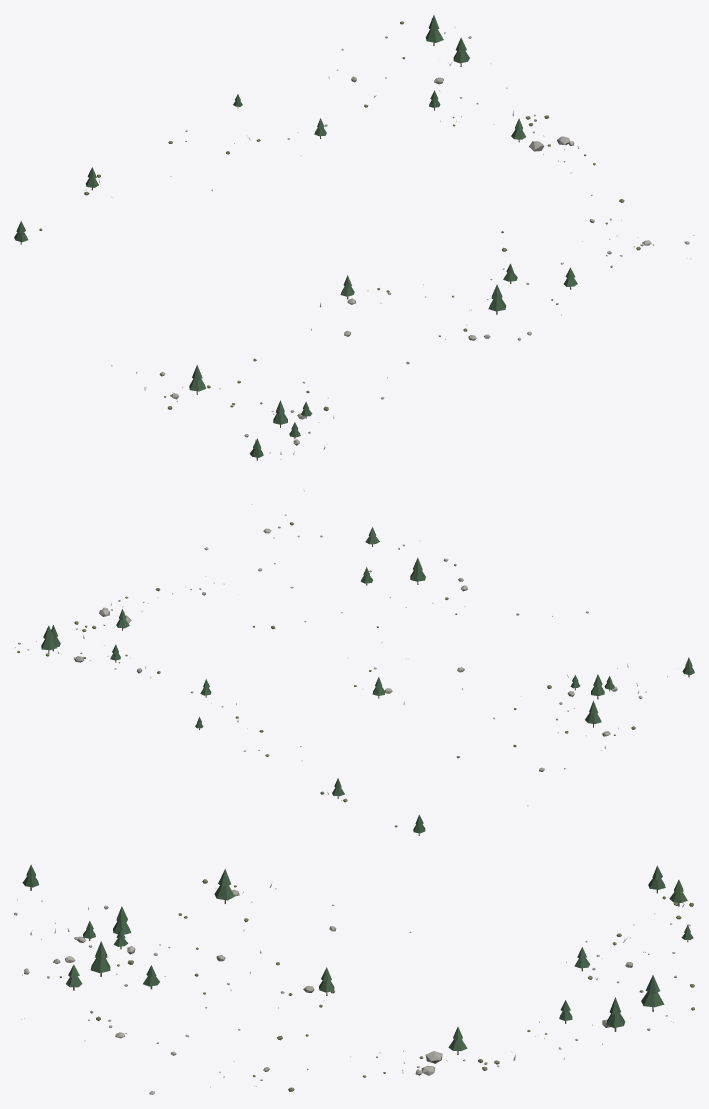
Rendered from coast_land_scatter_c10_16_lod1.glb.
The picture shows the model from 3 angles, top to bottom: view 1: azimuth 30°, elevation 25°; view 2: azimuth 150°, elevation 25°; view 3: azimuth 270°, elevation 25°; orthographic projection. The views are drawn at different scales.
Parts seen in each view (by area): view 1: coast_land_scatter_c10_16_lod1; view 2: coast_land_scatter_c10_16_lod1; view 3: coast_land_scatter_c10_16_lod1.
Boxes of the visible parts, x1,y1,x2,y2 form: coast_land_scatter_c10_16_lod1: (14,15,694,460); coast_land_scatter_c10_16_lod1: (15,489,694,835); coast_land_scatter_c10_16_lod1: (14,864,694,1094).
Bounding box in the file's own units: 255 × 83.96 × 257.
